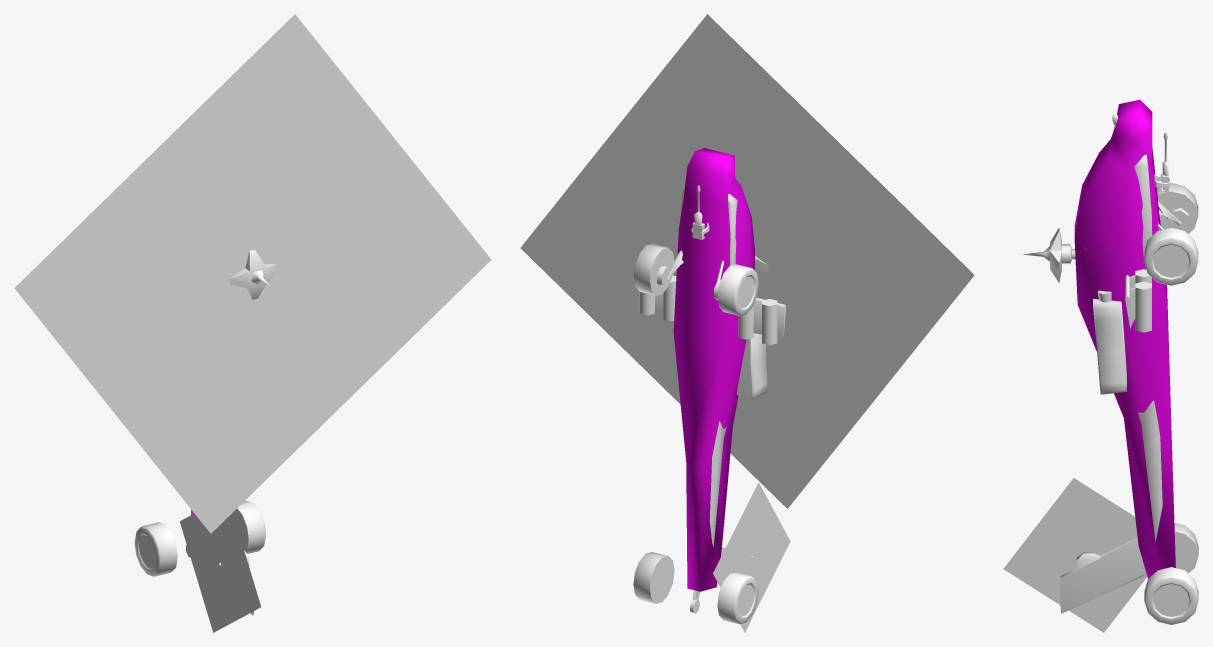
The model's file is Apache.glb.
3 renders of one model, left to right at view 1: azimuth 30°, elevation 25°; view 2: azimuth 150°, elevation 25°; view 3: azimuth 270°, elevation 25°, orthographic. The views are drawn at different scales.
Visible parts, largest first — view 1: ApacheTopRotor, ApacheBackRotor, ApacheWheel_LB, Apache, ApacheWheel_RB; view 2: ApacheTopRotor, ApacheProxy, Apache, ApacheBackRotor, ApacheWheel_LB, ApacheWheel_LF, ApacheWheel_RB, ApacheWheel_RF; view 3: ApacheProxy, Apache, ApacheBackRotor, ApacheWheel_RB, ApacheWheel_RF, ApacheWheel_LF, ApacheWheel_LB.
Part boxes in pixels (<box>): ApacheTopRotor: <box>14,14,491,533</box>; ApacheBackRotor: <box>180,513,260,632</box>; ApacheWheel_LB: <box>134,522,177,576</box>; Apache: <box>186,249,277,615</box>; ApacheWheel_RB: <box>233,501,265,553</box>; ApacheTopRotor: <box>520,14,974,508</box>; ApacheProxy: <box>673,148,754,591</box>; Apache: <box>639,185,786,613</box>; ApacheBackRotor: <box>713,482,790,632</box>; ApacheWheel_LB: <box>717,572,758,624</box>; ApacheWheel_LF: <box>717,264,758,315</box>; ApacheWheel_RB: <box>633,552,674,603</box>; ApacheWheel_RF: <box>633,244,674,295</box>; ApacheProxy: <box>1074,99,1175,578</box>; Apache: <box>1023,115,1189,613</box>; ApacheBackRotor: <box>1003,478,1147,632</box>; ApacheWheel_RB: <box>1144,567,1198,624</box>; ApacheWheel_RF: <box>1144,228,1198,285</box>; ApacheWheel_LF: <box>1156,183,1198,233</box>; ApacheWheel_LB: <box>1174,523,1198,573</box>.
Size of the model in its own units: 10.97 by 13.62 by 3.71.
